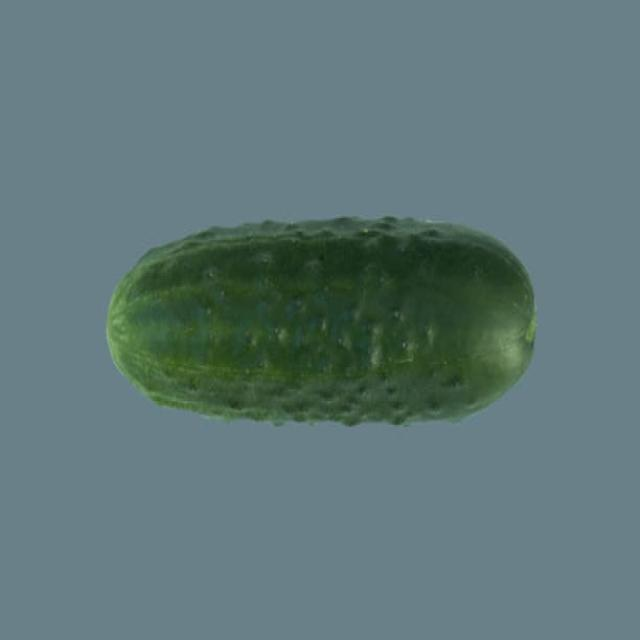cucumber: (106, 217, 536, 426)
